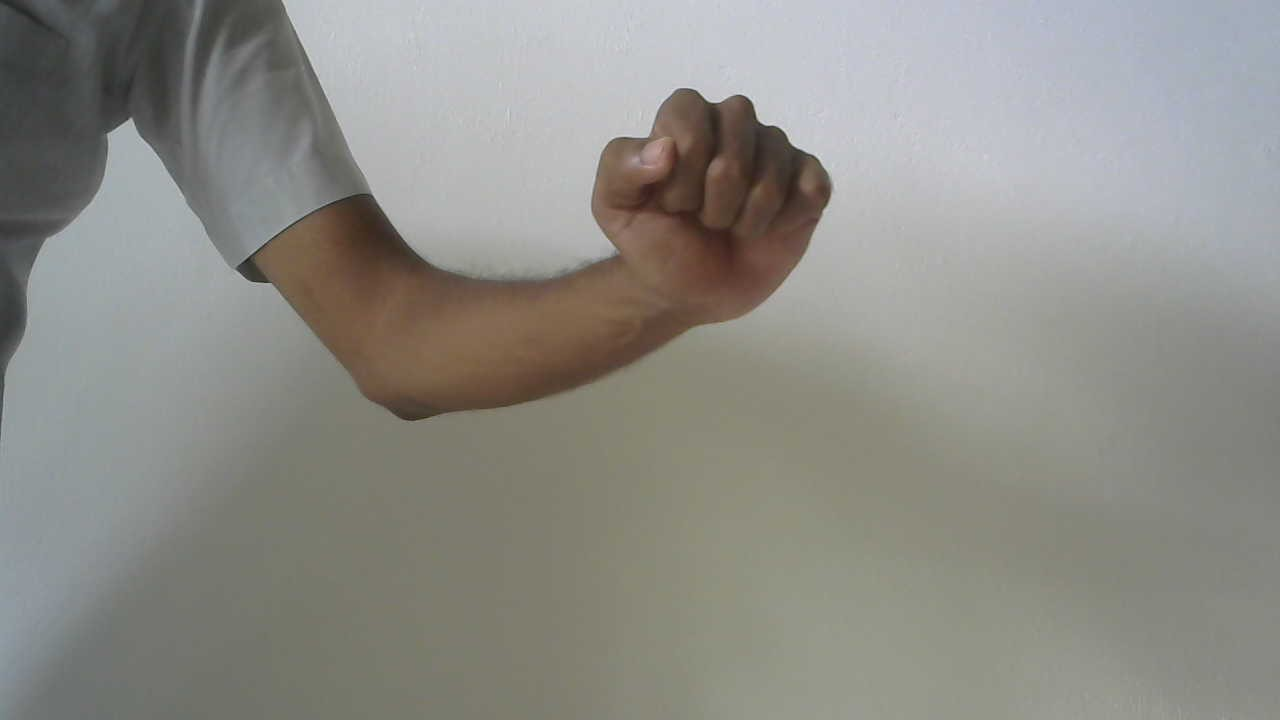yes: (575, 77, 858, 324)
